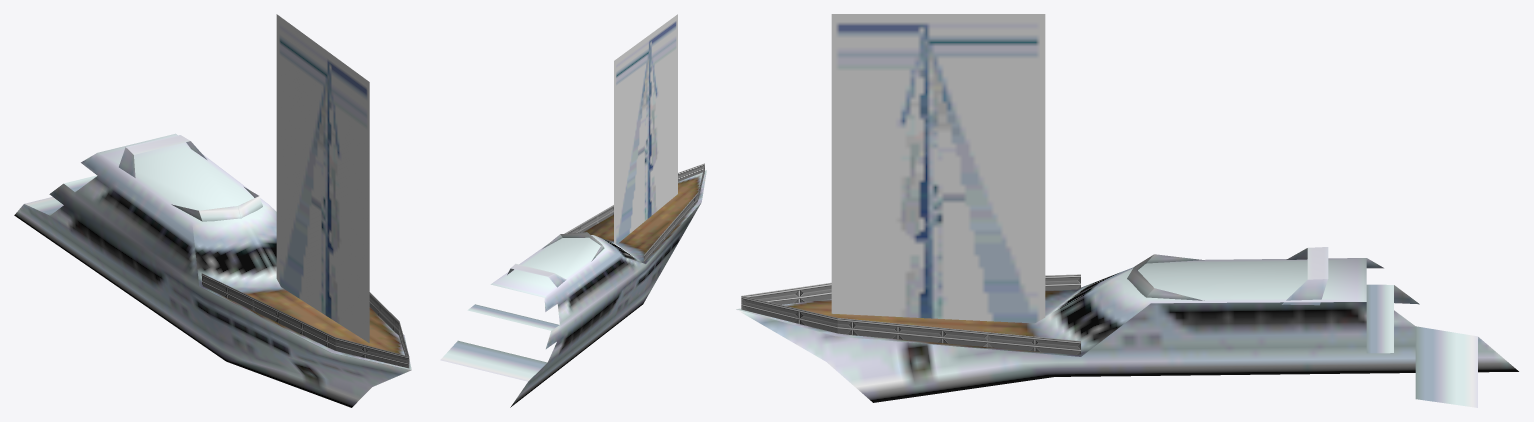
The model's file is youting03.FBX.
3 views of the same model, side by side, from view 1: azimuth 30°, elevation 25°; view 2: azimuth 150°, elevation 25°; view 3: azimuth 270°, elevation 25° (orthographic). The views are drawn at different scales.
Visible parts, largest first — view 1: youting03; view 2: youting03; view 3: youting03.
Part boxes in pixels (x1,y1,x2,y2): youting03: [14, 14, 411, 407]; youting03: [440, 14, 706, 407]; youting03: [736, 14, 1518, 407].
Bounding box in the file's own units: 7.44 × 18.52 × 33.82.
2 materials, 2 textured.
